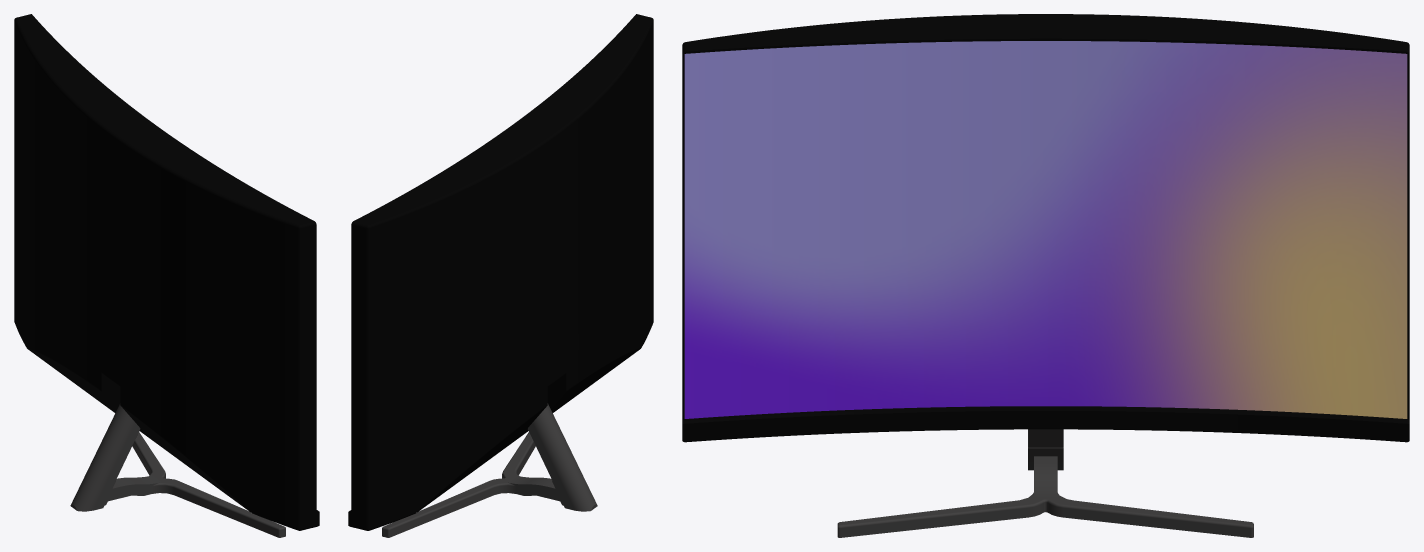
The model's file is Monitor.obj.
3 renders of one model, left to right at view 1: azimuth 30°, elevation 25°; view 2: azimuth 150°, elevation 25°; view 3: azimuth 270°, elevation 25°, orthographic. The views are drawn at different scales.
Parts seen in each view (by area): view 1: monitor; view 2: monitor; view 3: monitor.
Boxes of the visible parts, x1,y1,x2,y2 form: monitor: (14, 14, 319, 537); monitor: (348, 14, 653, 537); monitor: (682, 14, 1409, 537).
Bounding box in the file's own units: 6.38 × 17.03 × 24.06.
5 materials, 1 textured.
